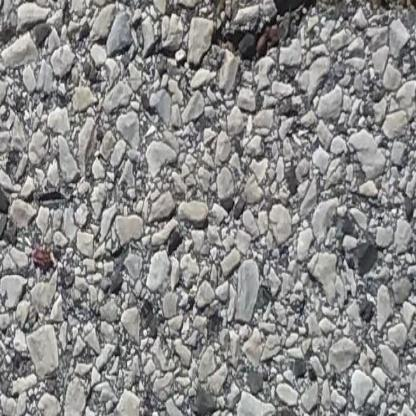Cracks: (210, 0, 416, 72)
